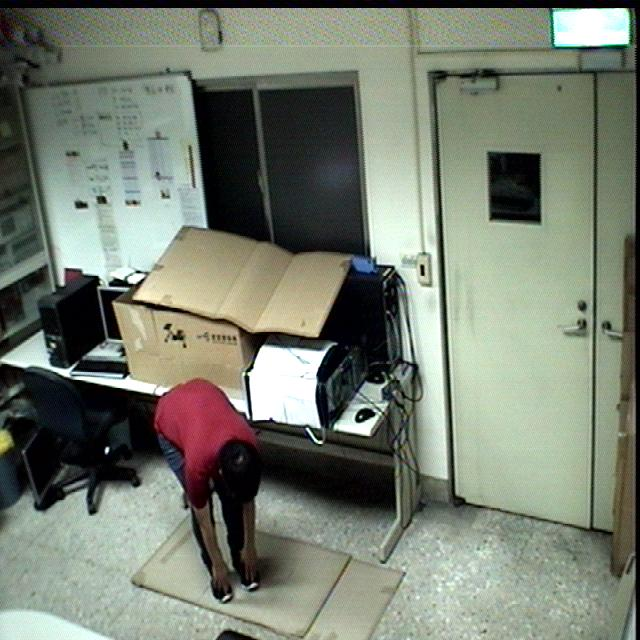bend: (149, 376, 266, 604)
